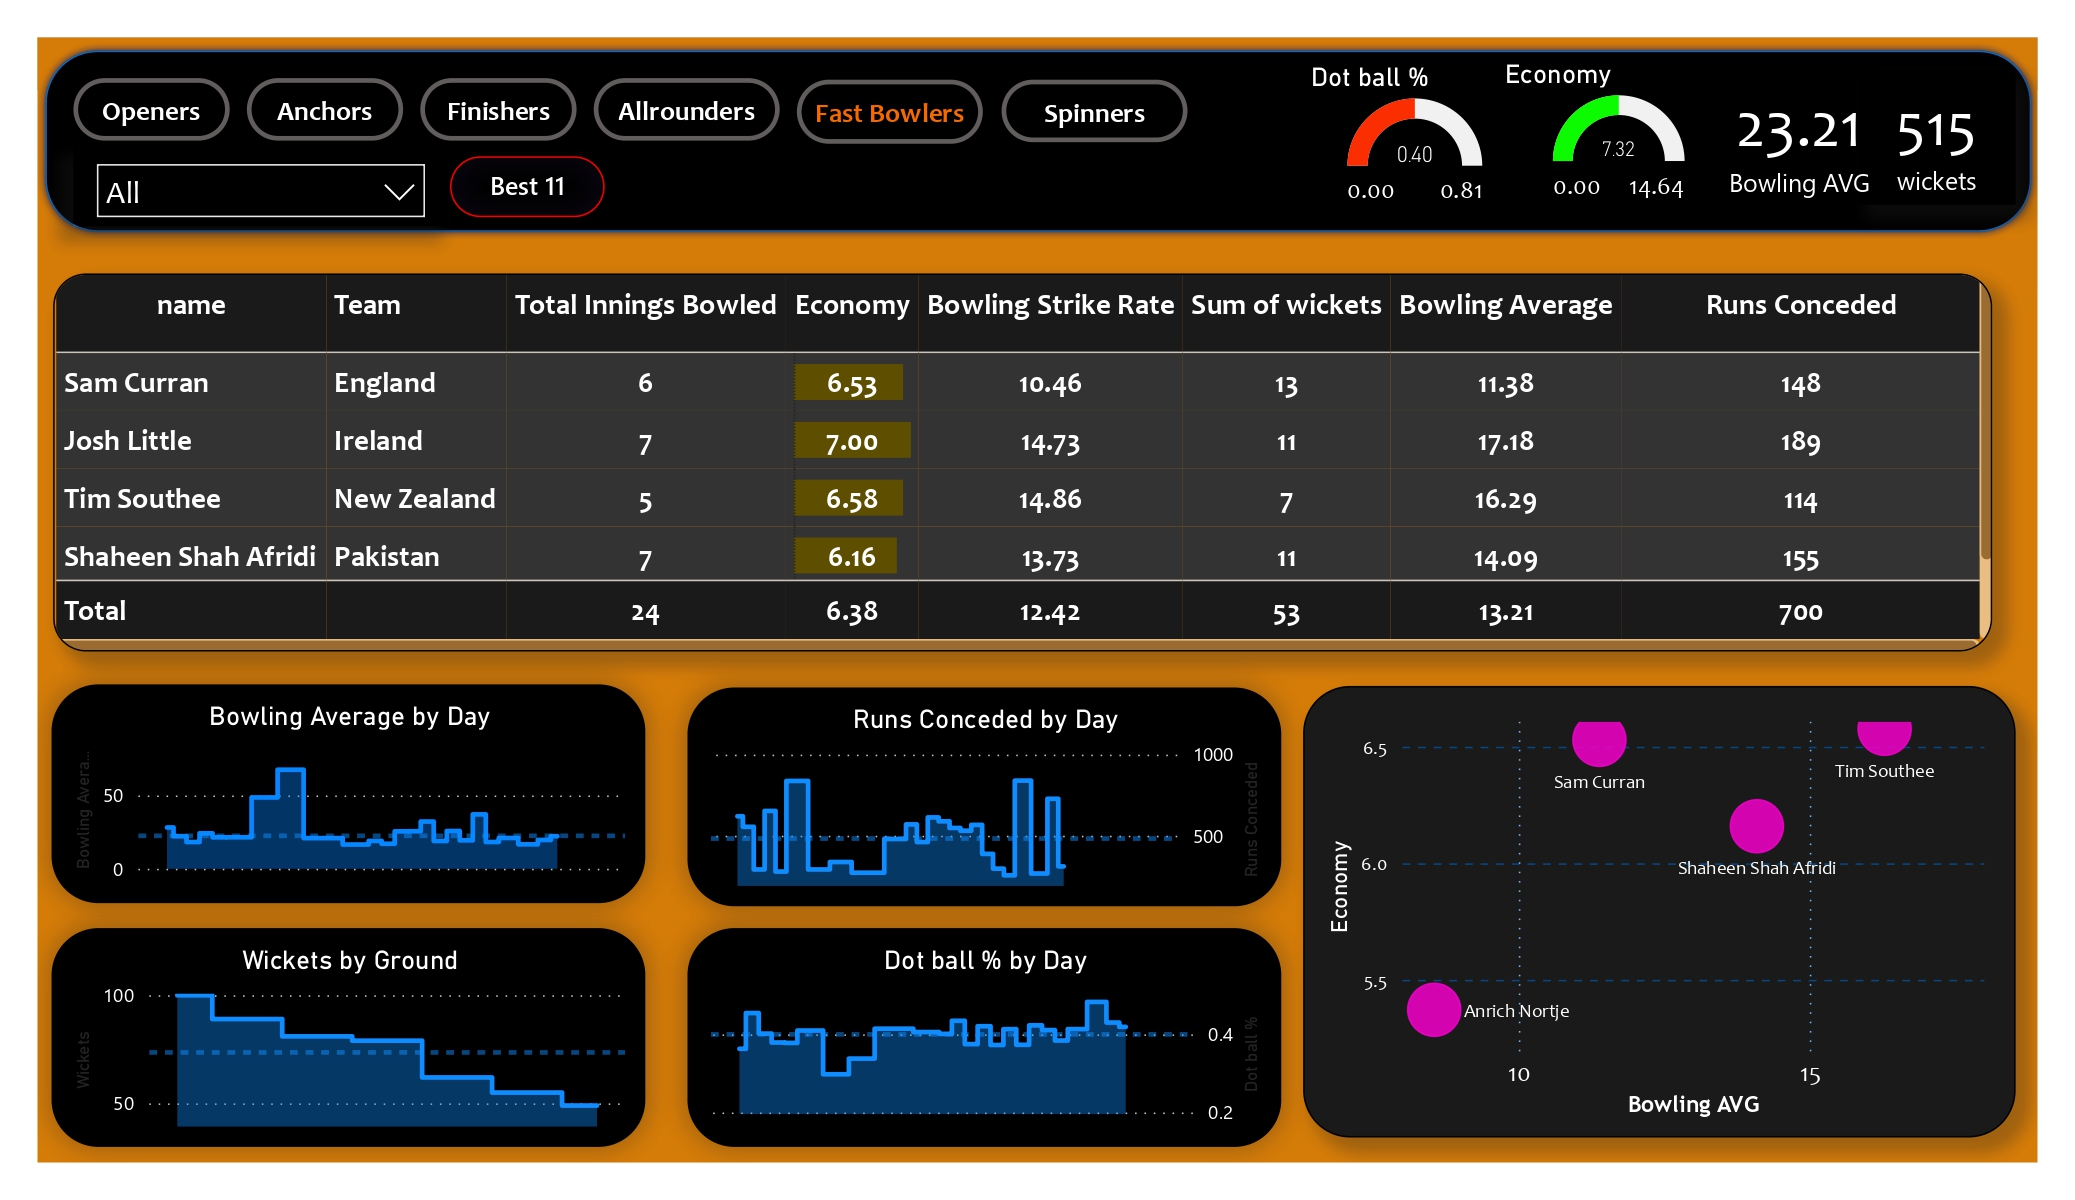

The dashboard page shown, as its layout file describes it:
{"tool":"powerbi","page":{"name":"Fast Bowlers / Tail End","canvas":[1280,720],"ordinal":6},"visuals":[{"type":"tableEx","fields":{"Values":["dim_players.name","dim_players.team","Key_measures.Total Innings Bowled","Key_measures.Economy","Key_measures.Bowling Strike Rate","Sum(fact_bowling_summary.wickets)","Key_measures.Bowling Average","Key_measures.Runs Conceded"]},"box":[9.5,151.2,1241.7,241.7],"z":0},{"type":"scatterChart","title":"Bowling Strike Rate Vs Economy ","fields":{"Category":["dim_players.name"],"Y":["Key_measures.Economy"],"X":["Key_measures.Bowling Average"]},"box":[810.5,415.3,455.4,288.7],"z":1000},{"type":"shape","box":[0,2.8,1280.6,126.4],"z":2000},{"type":"gauge","fields":{"Y":["Key_measures.Dot ball %"]},"box":[810.1,14.9,142.7,102.6],"z":3000},{"type":"card","fields":{"Values":["Key_measures.wickets"]},"box":[1165.3,20.8,101.1,86.2],"z":4000},{"type":"gauge","fields":{"Y":["Key_measures.Economy"]},"box":[934,13.4,156.1,101.1],"z":5000},{"type":"card","fields":{"Values":["Key_measures.Bowling Average"]},"box":[1071.3,20.1,112.8,88.1],"z":6000},{"type":"areaChart","fields":{"Y":["Key_measures.Bowling Average"],"Category":["dim_match_summary.matchDate.Variation.Date Hierarchy.Day"]},"box":[9.1,414.5,380,140],"z":7000},{"type":"areaChart","fields":{"Y":["Key_measures.Runs Conceded"],"Category":["dim_match_summary.matchDate.Variation.Date Hierarchy.Day"]},"box":[415.8,415.8,380,140],"z":8000},{"type":"areaChart","fields":{"Y":["Key_measures.wickets"],"Category":["dim_match_summary.ground"]},"box":[9.1,570.4,380,140],"z":9000},{"type":"areaChart","fields":{"Y":["Key_measures.Dot ball %"],"Category":["dim_match_summary.matchDate.Variation.Date Hierarchy.Day"]},"box":[415.8,570.4,380,140],"z":10000},{"type":"actionButton","box":[23.4,26,100,40.3],"z":11000},{"type":"actionButton","box":[134.2,26,100,40.3],"z":12000},{"type":"actionButton","box":[244.9,26,100,40.3],"z":13000},{"type":"actionButton","box":[355.7,26,119.5,40.3],"z":14000},{"type":"actionButton","box":[485.9,27.3,119.5,40.3],"z":15000},{"type":"actionButton","box":[616.9,26.8,118.9,40.1],"z":16000},{"type":"slicer","fields":{"Values":["dim_match_summary.stage"]},"box":[23.3,71.1,240,50],"z":17000},{"type":"actionButton","box":[264.3,76.2,98.8,39.3],"z":18000}]}

Visuals, with their boxes on the page's 1280x720 design canvas (x1, y1, x2, y2). These are canvas units, not pixel positions in the 2075x1200 screenshot, which may show the page scaled, cropped or inside an application window:
tableEx - dim_players.name x dim_players.team: <region>10, 151, 1251, 393</region>
"Bowling Strike Rate Vs Economy " scatterChart: <region>810, 415, 1266, 704</region>
shape: <region>0, 3, 1281, 129</region>
gauge - Key_measures.Dot ball %: <region>810, 15, 953, 118</region>
card - Key_measures.wickets: <region>1165, 21, 1266, 107</region>
gauge - Key_measures.Economy: <region>934, 13, 1090, 114</region>
card - Key_measures.Bowling Average: <region>1071, 20, 1184, 108</region>
areaChart - Key_measures.Bowling Average x dim_match_summary.matchDate.Variation.Date Hierarchy.Day: <region>9, 414, 389, 554</region>
areaChart - Key_measures.Runs Conceded x dim_match_summary.matchDate.Variation.Date Hierarchy.Day: <region>416, 416, 796, 556</region>
areaChart - Key_measures.wickets x dim_match_summary.ground: <region>9, 570, 389, 710</region>
areaChart - Key_measures.Dot ball % x dim_match_summary.matchDate.Variation.Date Hierarchy.Day: <region>416, 570, 796, 710</region>
actionButton: <region>23, 26, 123, 66</region>
actionButton: <region>134, 26, 234, 66</region>
actionButton: <region>245, 26, 345, 66</region>
actionButton: <region>356, 26, 475, 66</region>
actionButton: <region>486, 27, 605, 68</region>
actionButton: <region>617, 27, 736, 67</region>
slicer - dim_match_summary.stage: <region>23, 71, 263, 121</region>
actionButton: <region>264, 76, 363, 116</region>
